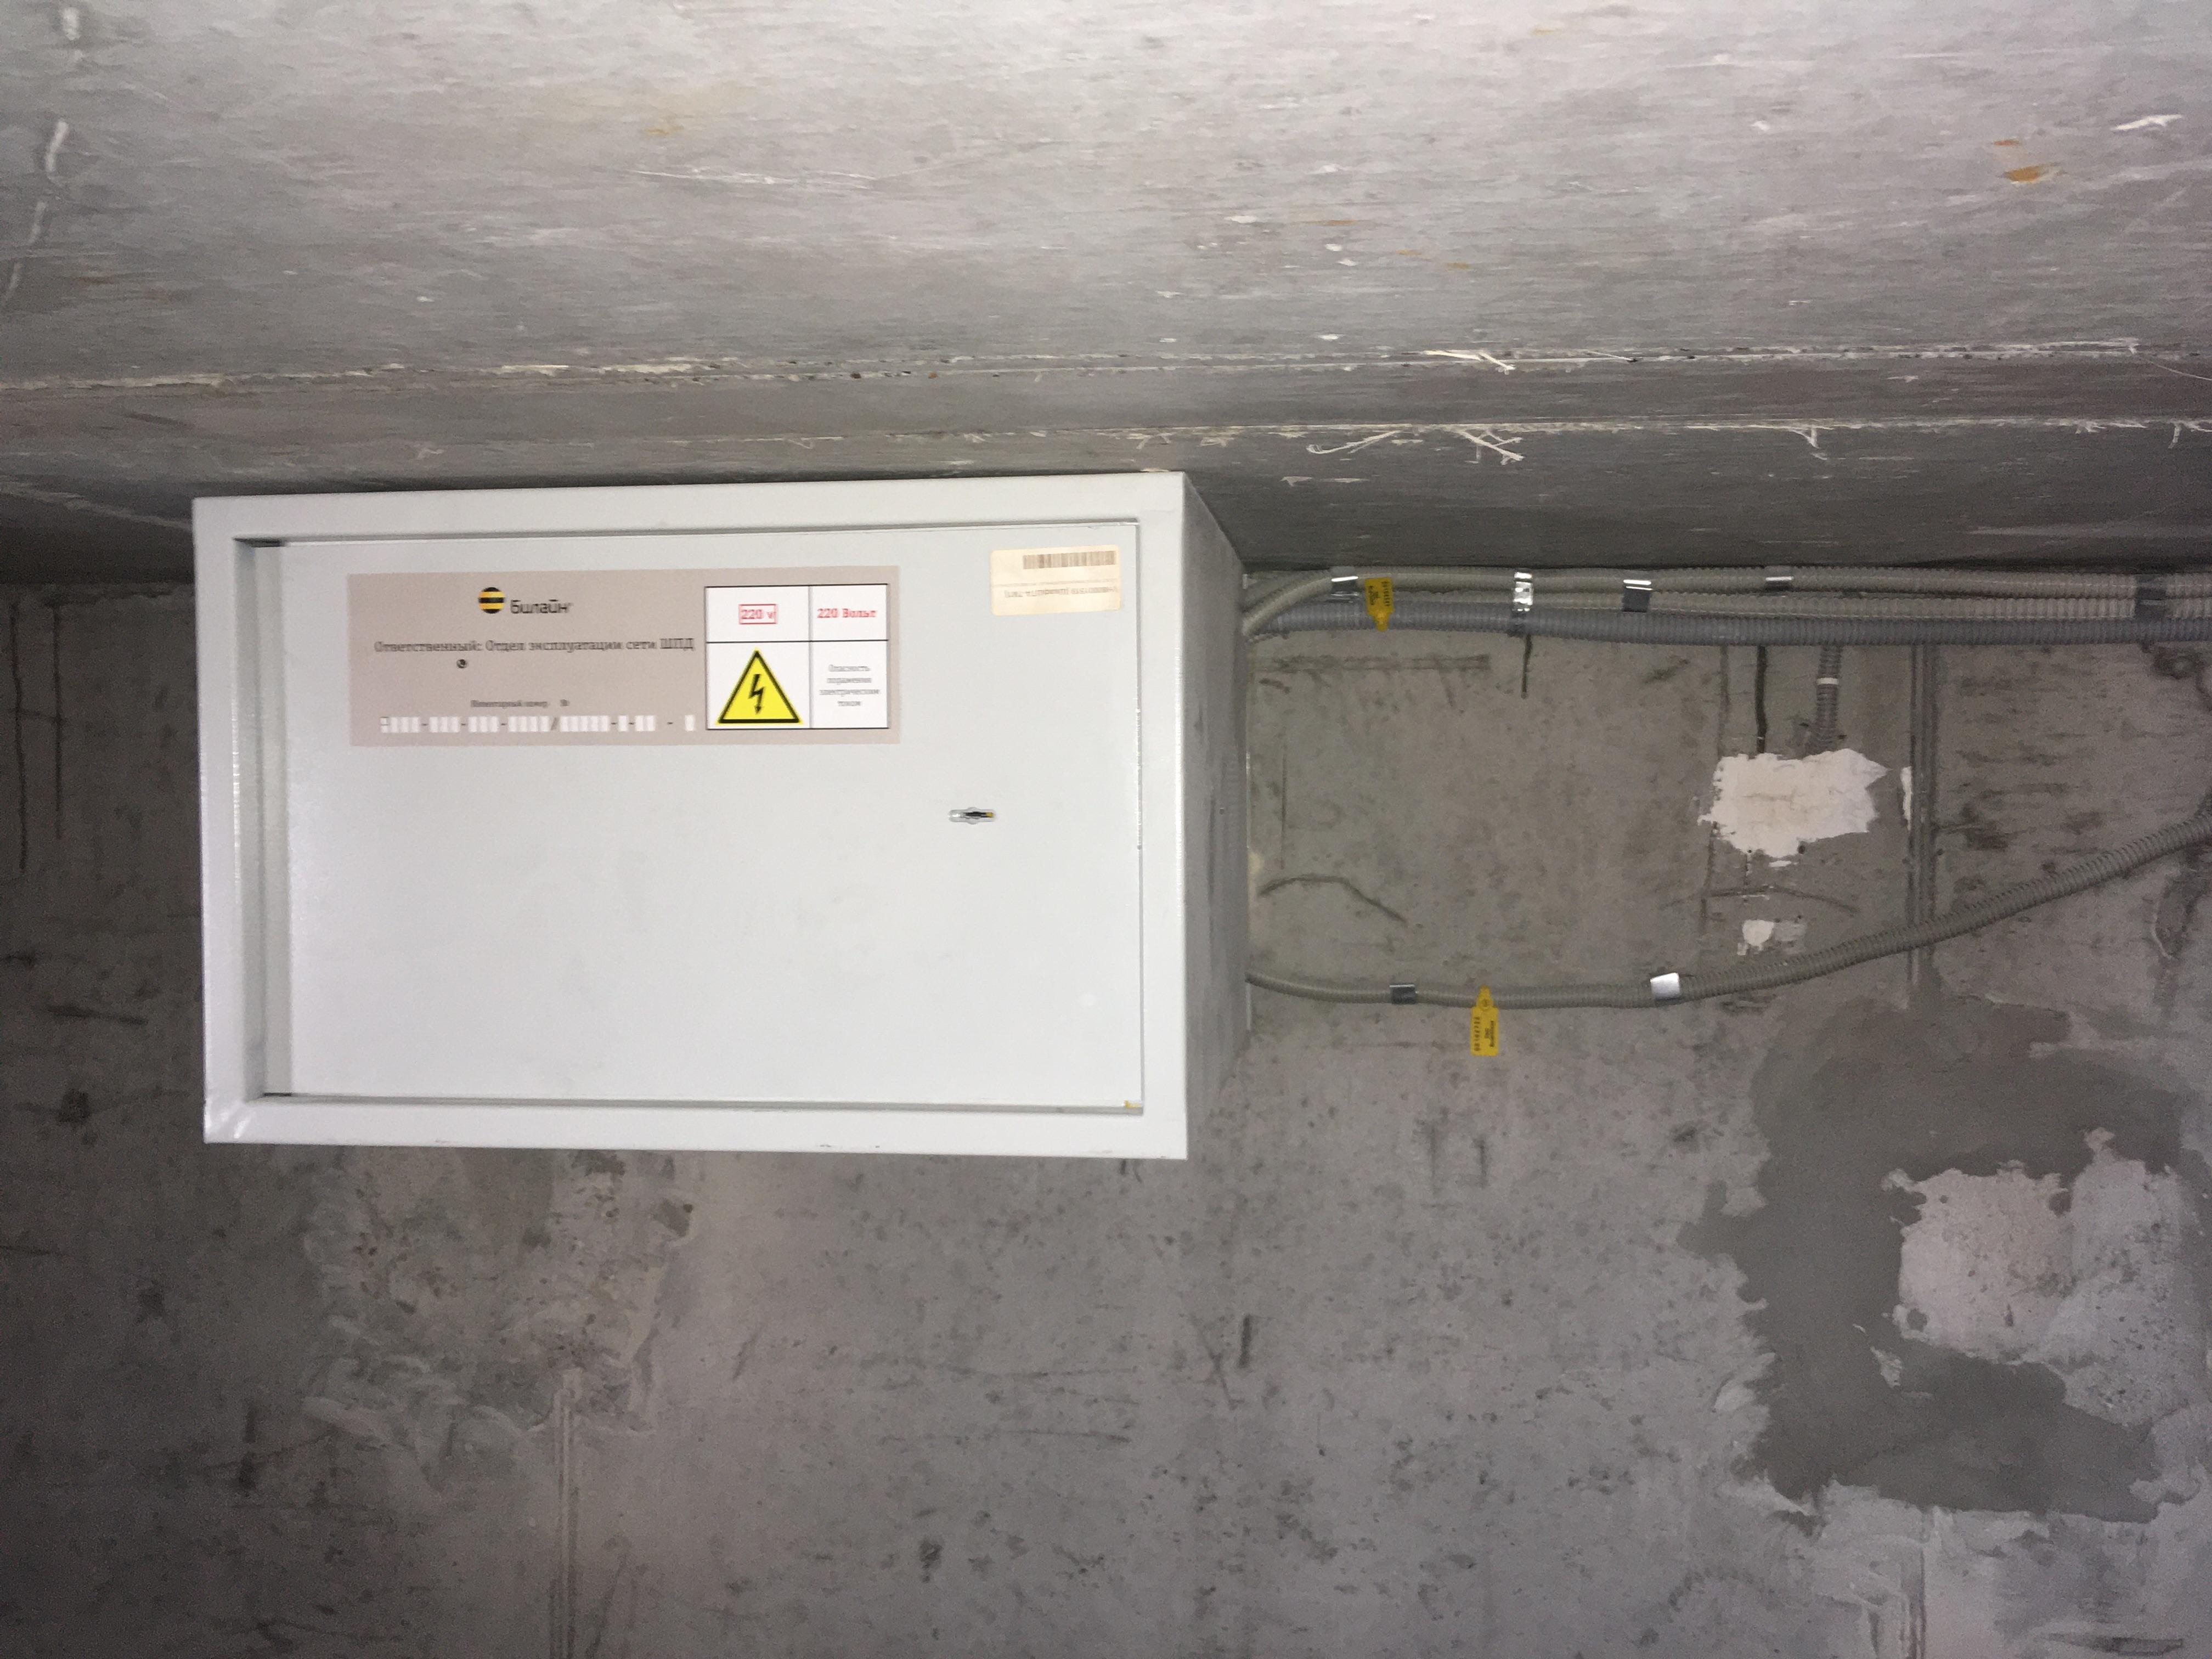shta-7m: (171, 460, 1261, 1182)
